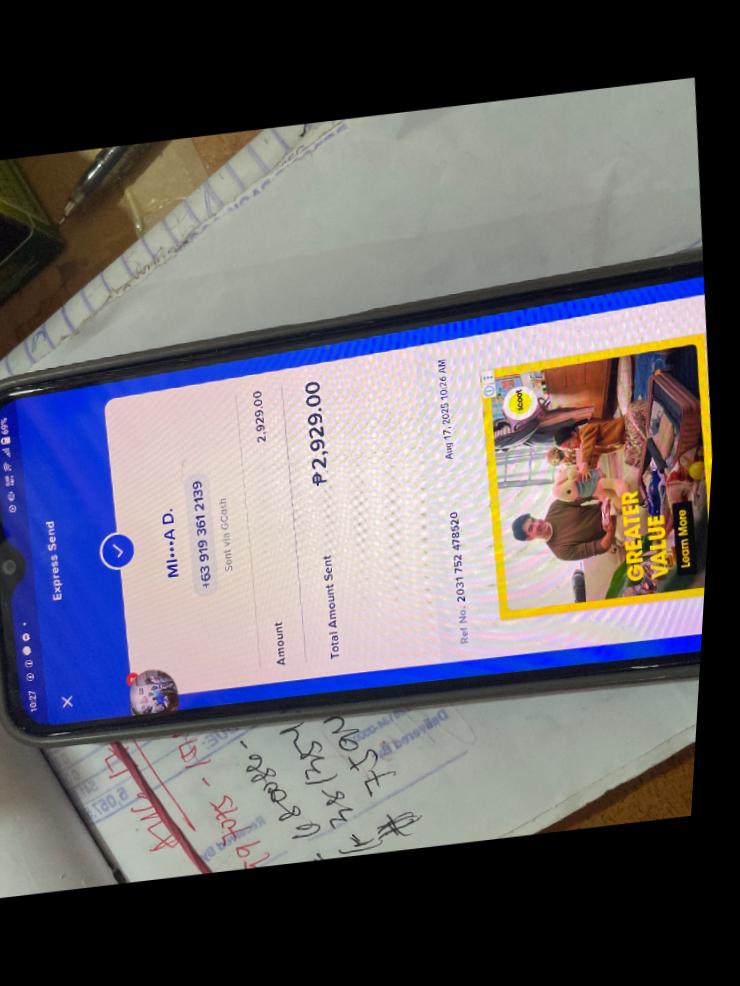Receipt: (18, 271, 712, 720)
